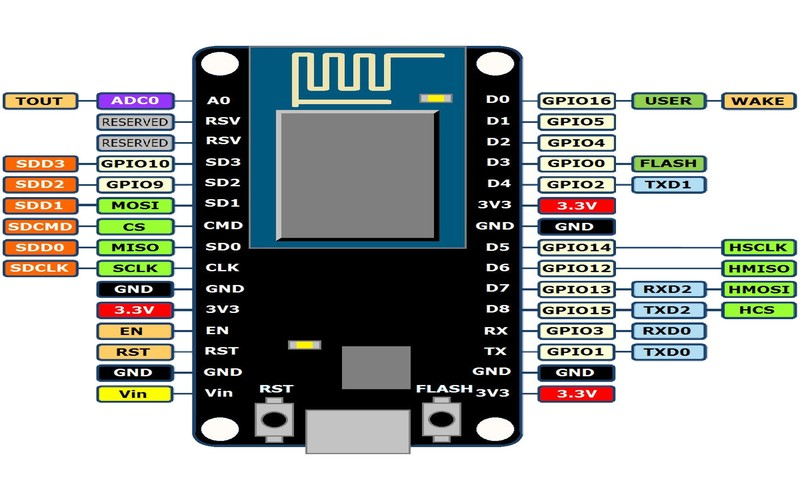IoT Sensor: (185, 37, 535, 459)
